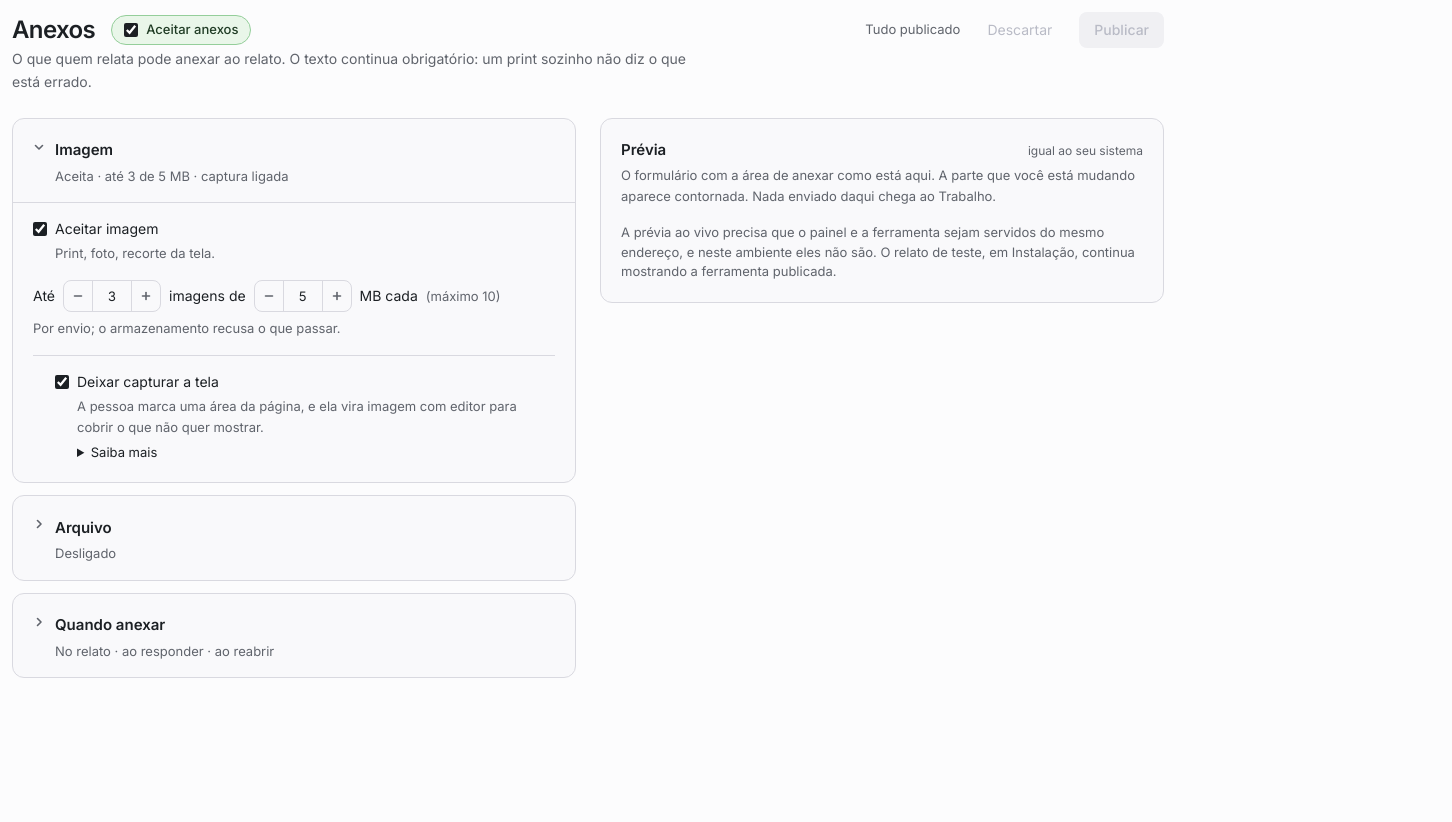
Test: MediaScreen › descartar volta ao que está salvo, sem gravar
Replace the text in the 1st number field named "Quantas imagens por envio" with "2" at x=112, y=296, box [92, 281, 132, 311]
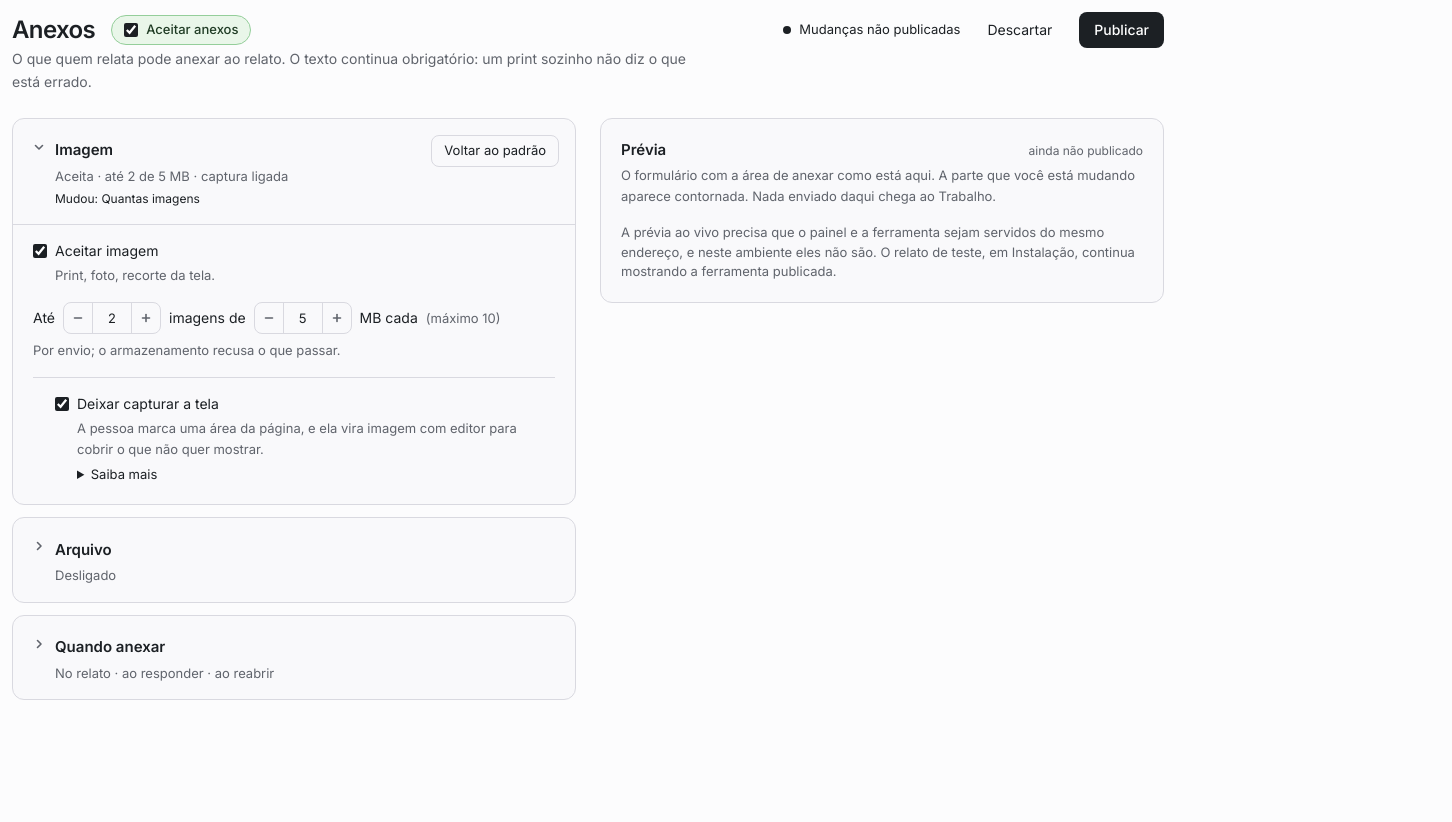
Click the button "Descartar" at x=1020, y=30, box [972, 12, 1067, 48]
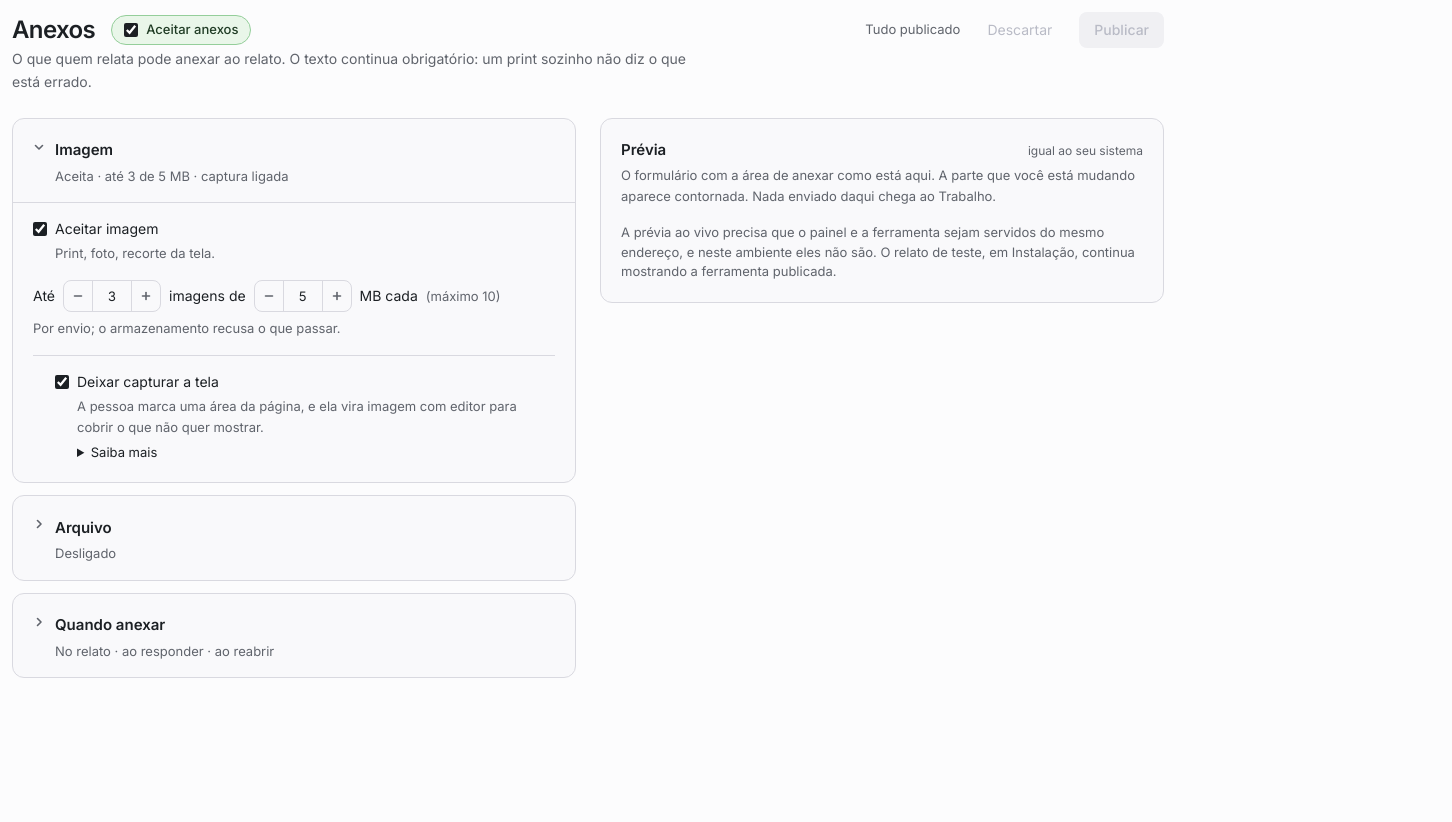
Result: the 1st number field named "Quantas imagens por envio" holds "3" at [92, 281, 132, 311]
